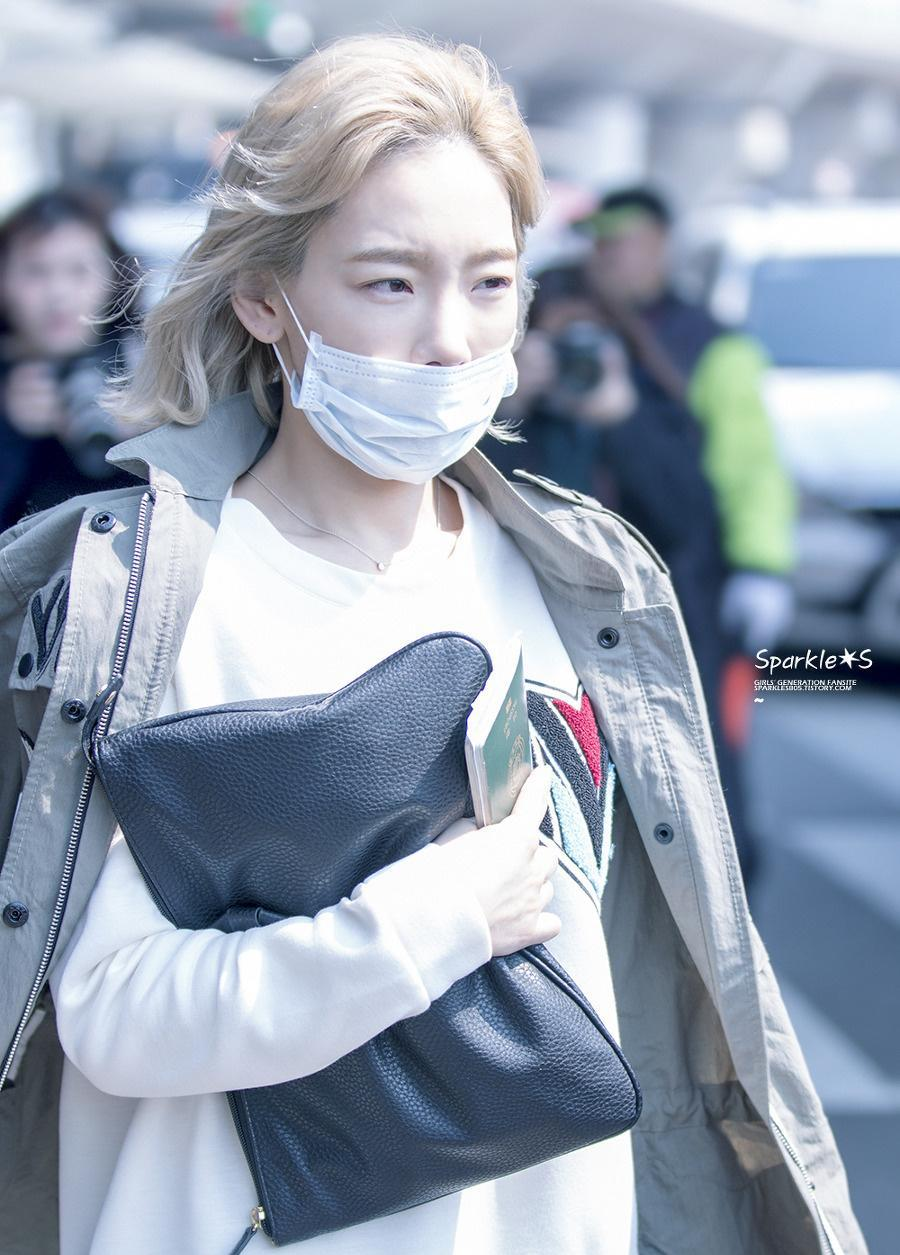NONE: (8, 247, 108, 351)
WRONG: (278, 232, 519, 473)
